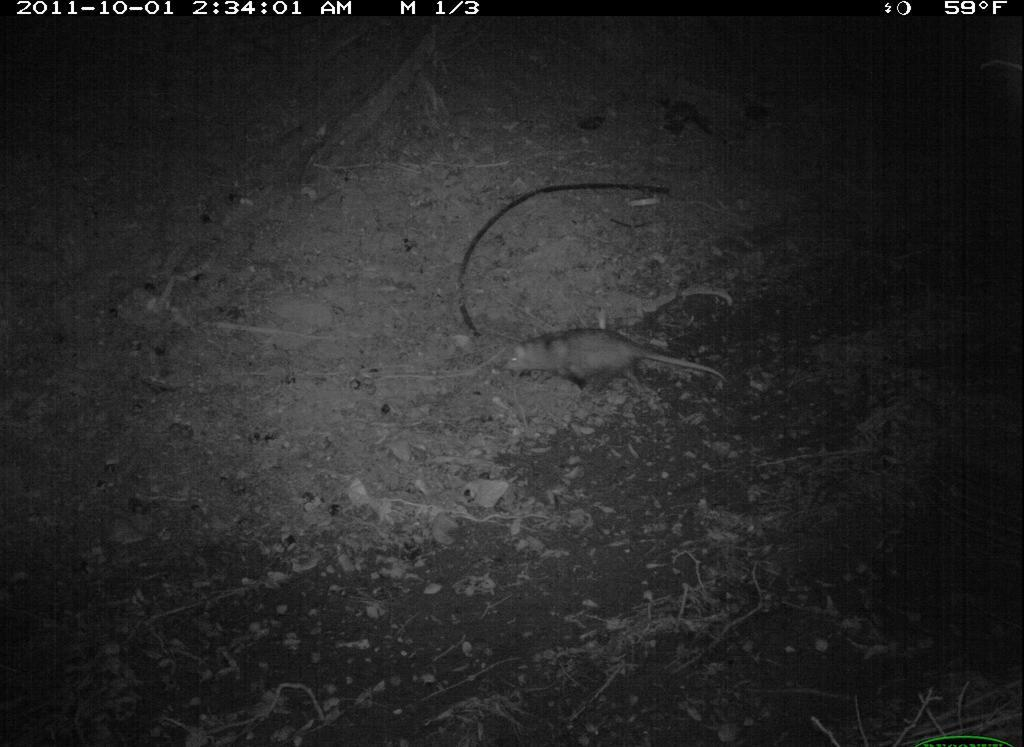opossum: (491, 321, 756, 409)
